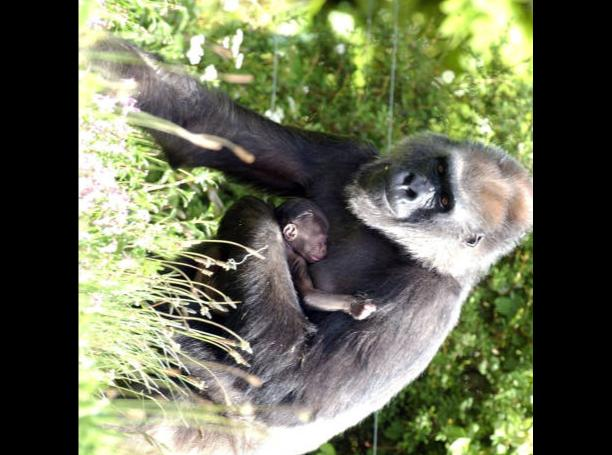gorille_Autres: (105, 39, 532, 455)
